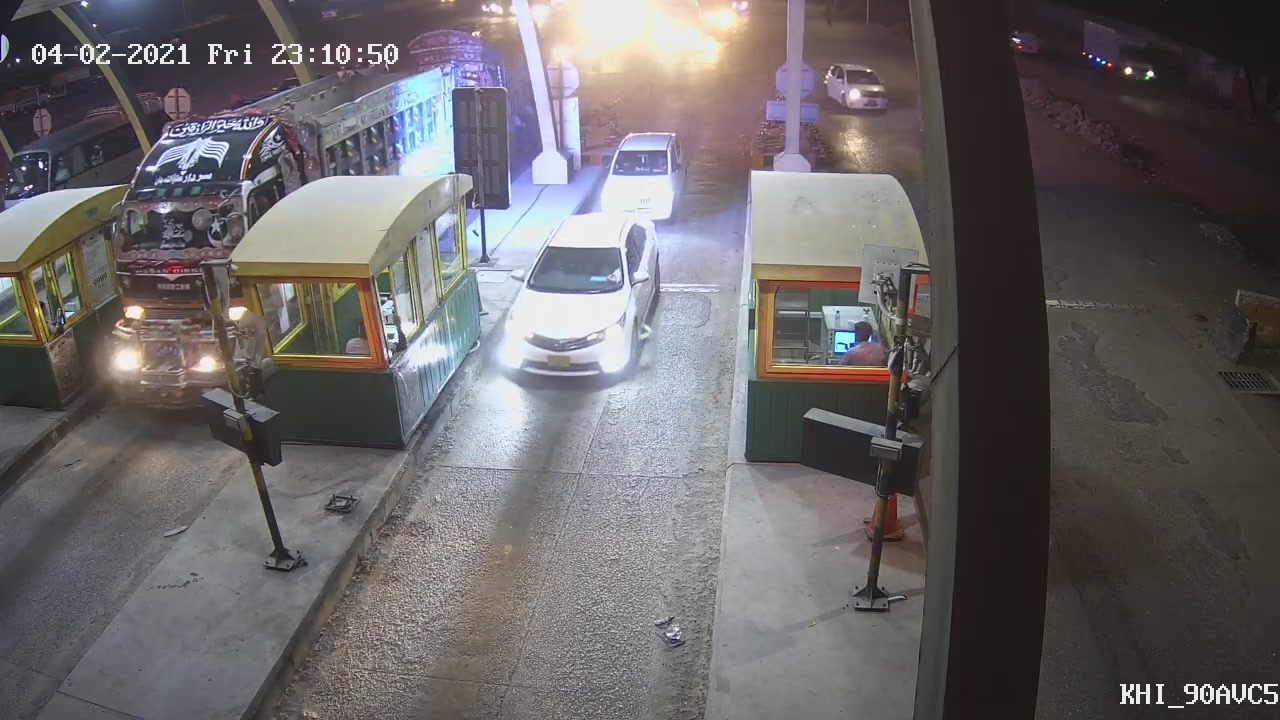F1: (498, 210, 670, 379)
